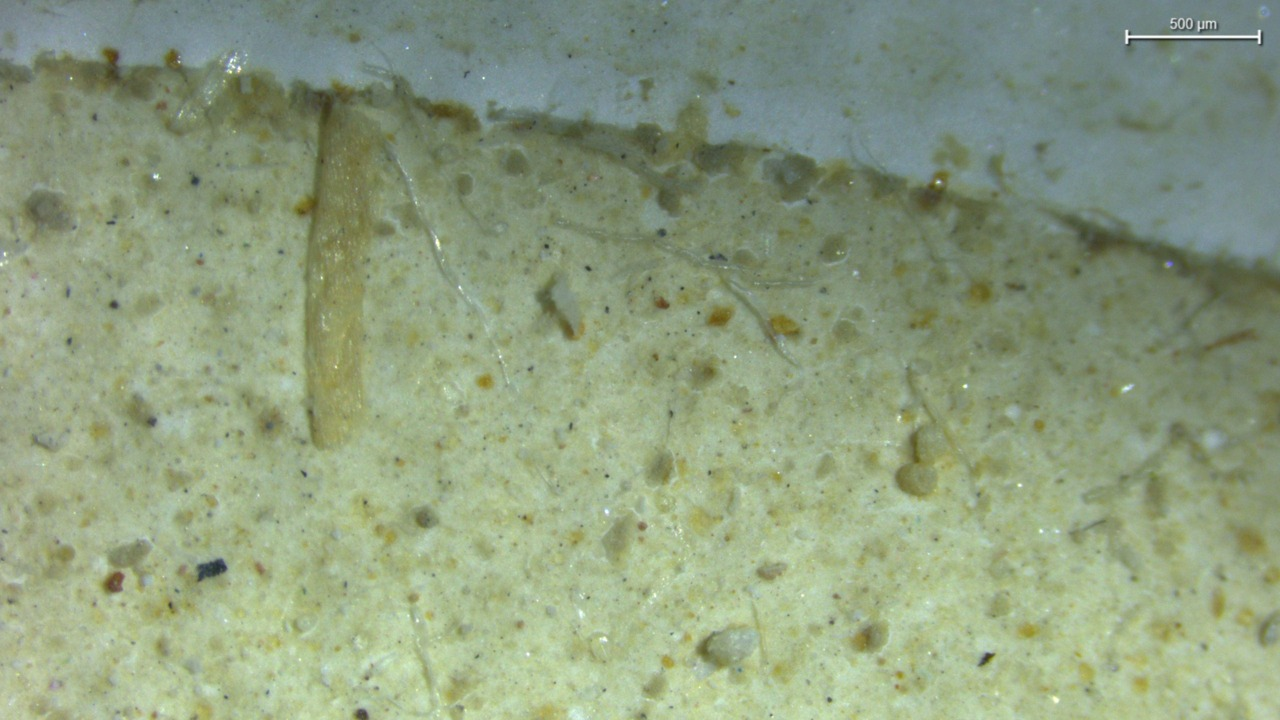microplastic_fragment: (385, 146, 513, 388), (305, 100, 378, 448), (535, 272, 581, 338), (698, 626, 759, 667), (911, 423, 953, 462), (896, 463, 937, 496)
